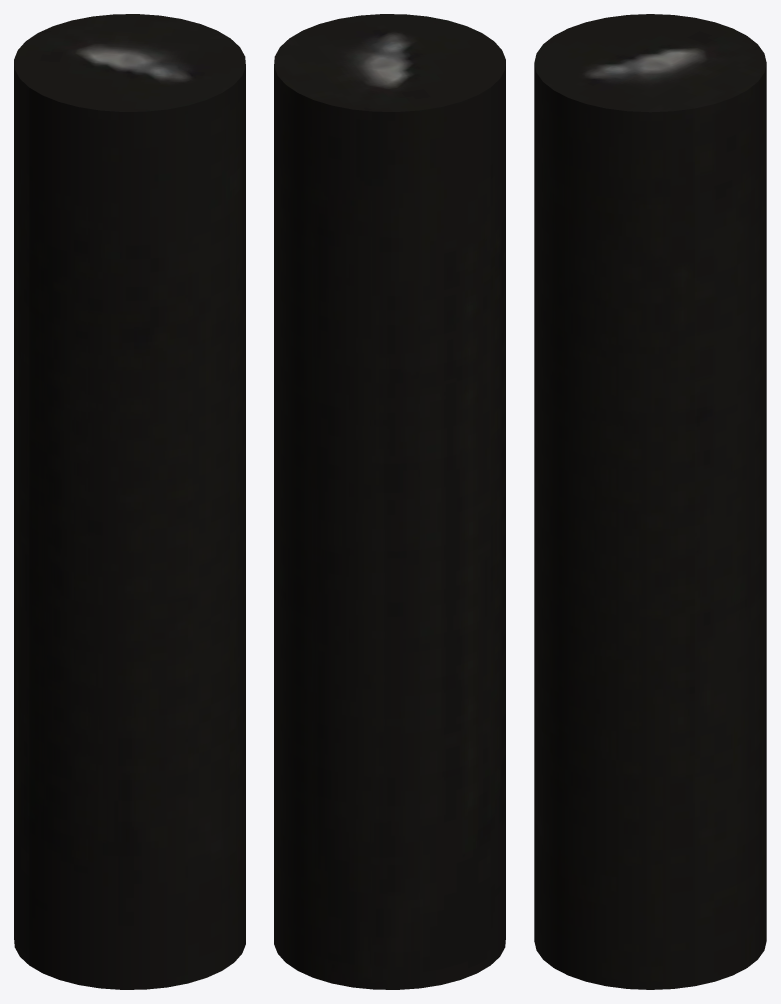
Rendered from center_frame__handle_bar.glb.
The picture shows the model from 3 angles, left to right: view 1: azimuth 30°, elevation 25°; view 2: azimuth 150°, elevation 25°; view 3: azimuth 270°, elevation 25°; orthographic projection.
Parts seen in each view (by area): view 1: world; view 2: world; view 3: world.
Boxes of the visible parts, x1,y1,x2,y2 form: world: [14, 14, 245, 989]; world: [274, 14, 505, 989]; world: [534, 14, 766, 989].
Bounding box in the file's own units: 0.024 × 0.1 × 0.024.
1 material, 1 textured.
